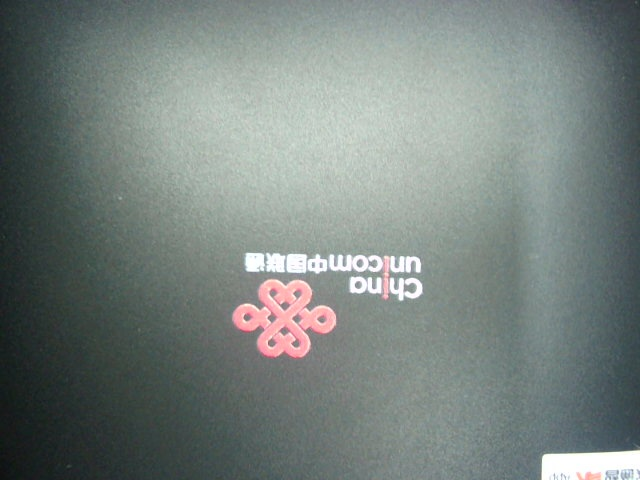AC_ChinaUnicom: (222, 243, 431, 366)
